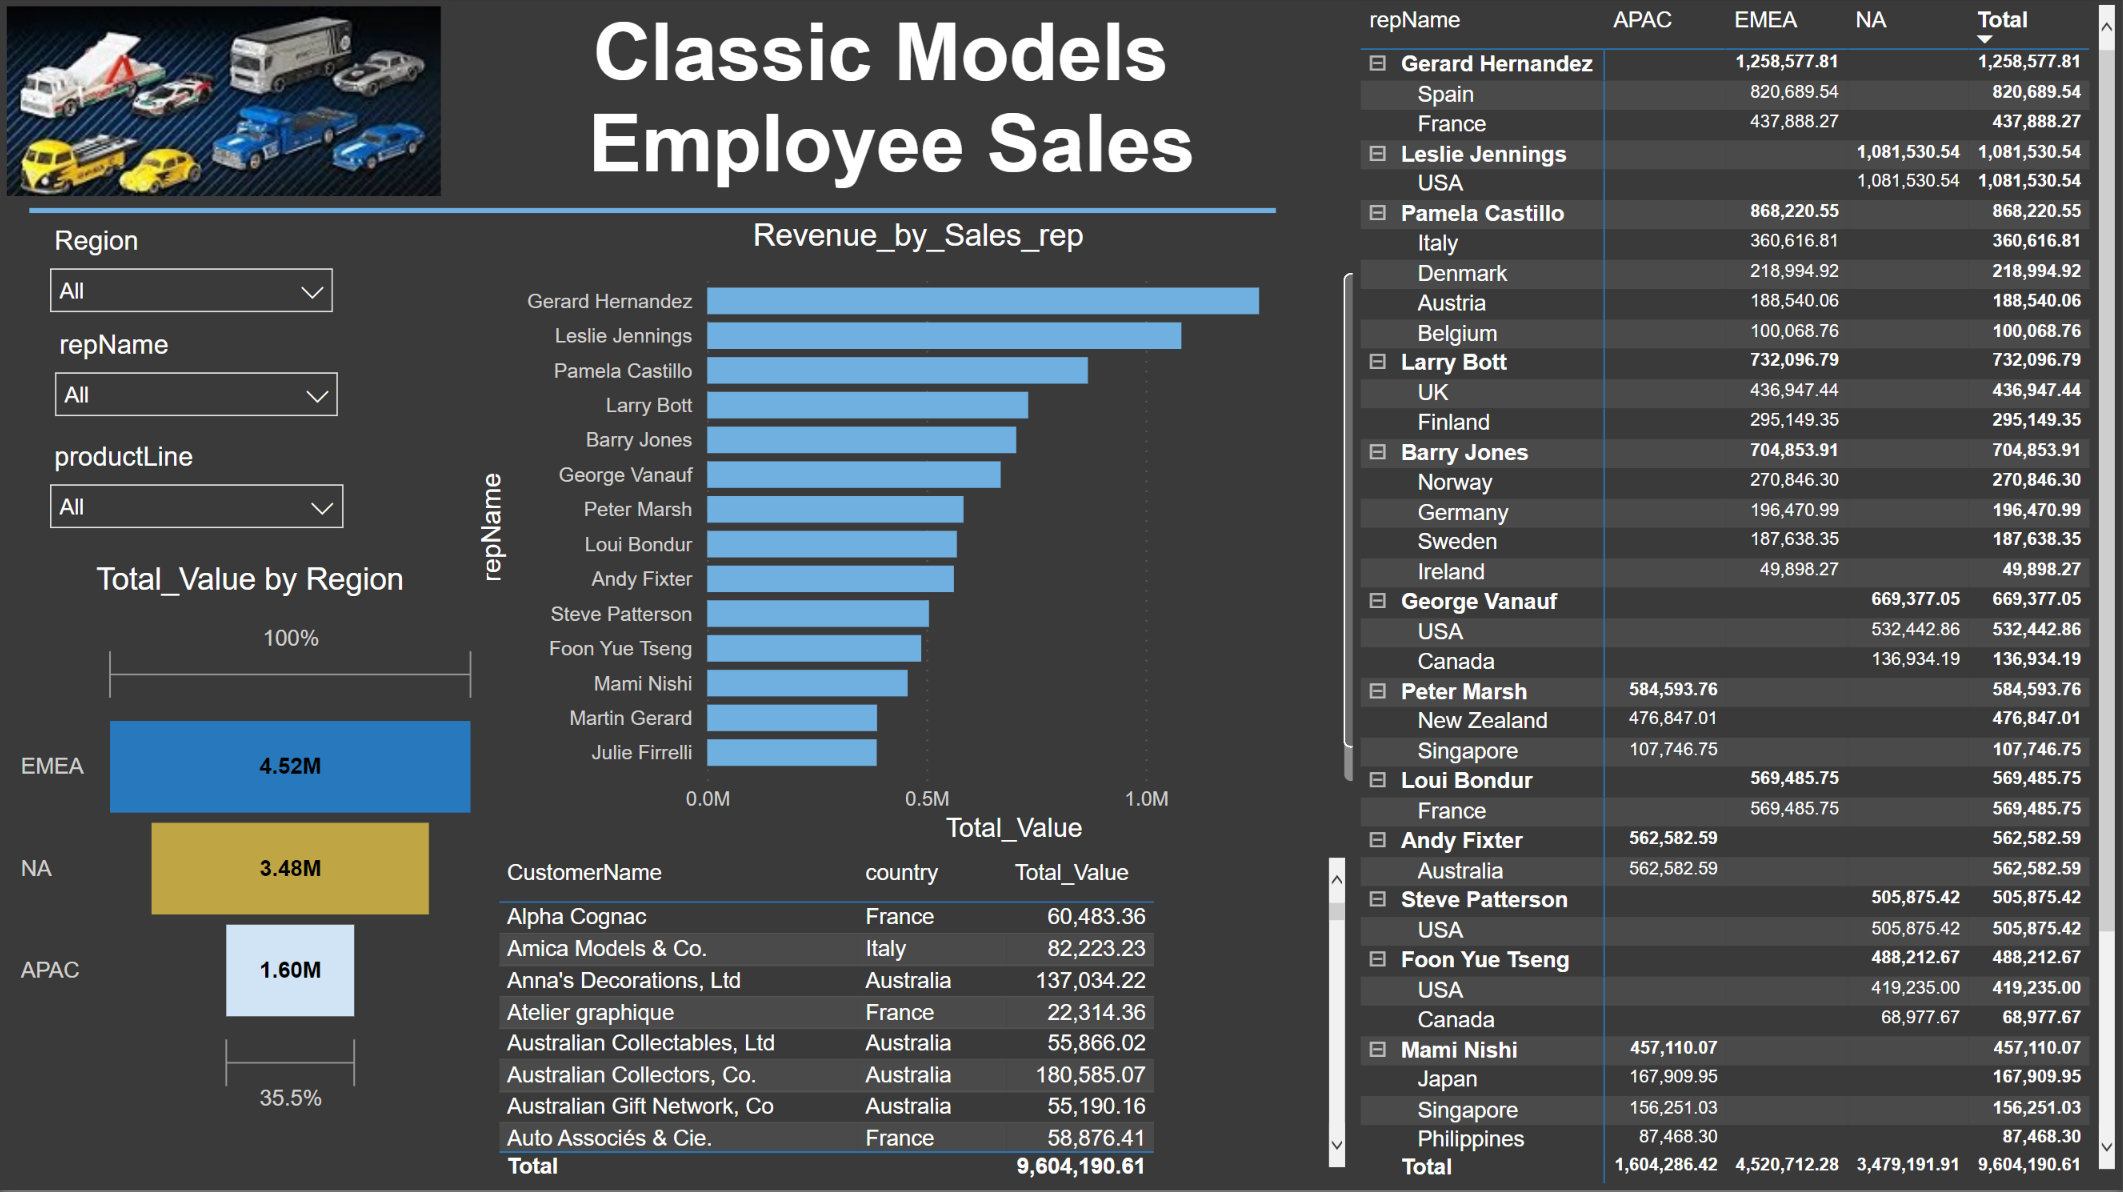

This screenshot's page, from the dashboard's own definition file:
{"tool":"powerbi","page":{"name":"Scenario4","canvas":[1280,720],"ordinal":3},"visuals":[{"type":"textbox","box":[271.6,1.3,532.7,123.7],"z":0},{"type":"image","box":[0,0,271.6,125],"z":1000},{"type":"basicShape","box":[8.5,111.2,771.5,34],"z":2000},{"type":"slicer","fields":{"Values":["Products.productLine"]},"box":[20.3,227.7,197,72.6],"z":3000},{"type":"donutChart","title":"Revenue_by_Sales_rep","fields":{"Category":["Customers.repName"],"Y":["Sum(Order_Details.Total_Value)"]},"box":[284.7,139.4,539.2,411.6],"z":4000},{"type":"slicer","fields":{"Values":["Customers.Region"]},"box":[20.3,145.3,191.1,62.8],"z":6000},{"type":"funnel","fields":{"Y":["Sum(Order_Details.Total_Value)"],"Category":["Customers.Region"]},"box":[8.5,340.3,286,347.5],"z":7000},{"type":"pivotTable","fields":{"Values":["Sum(Order_Details.Total_Value)"],"Rows":["Customers.repName","Customers.country"],"Columns":["Customers.Region"]},"box":[816,0,464,719.8],"z":8000}]}

Visuals, with their boxes in screenshot pixels (x1, y1, x2, y2), scaled from the page's 1280x720 canvas onto the 2123x1192 screenshot:
textbox: [450, 2, 1334, 207]
image: [0, 0, 450, 207]
basicShape: [14, 184, 1294, 240]
slicer - Products.productLine: [34, 377, 360, 497]
"Revenue_by_Sales_rep" donutChart: [472, 231, 1367, 912]
slicer - Customers.Region: [34, 241, 351, 345]
funnel - Sum(Order_Details.Total_Value) x Customers.Region: [14, 563, 488, 1139]
pivotTable - Sum(Order_Details.Total_Value) x Customers.repName: [1353, 0, 2122, 1191]
